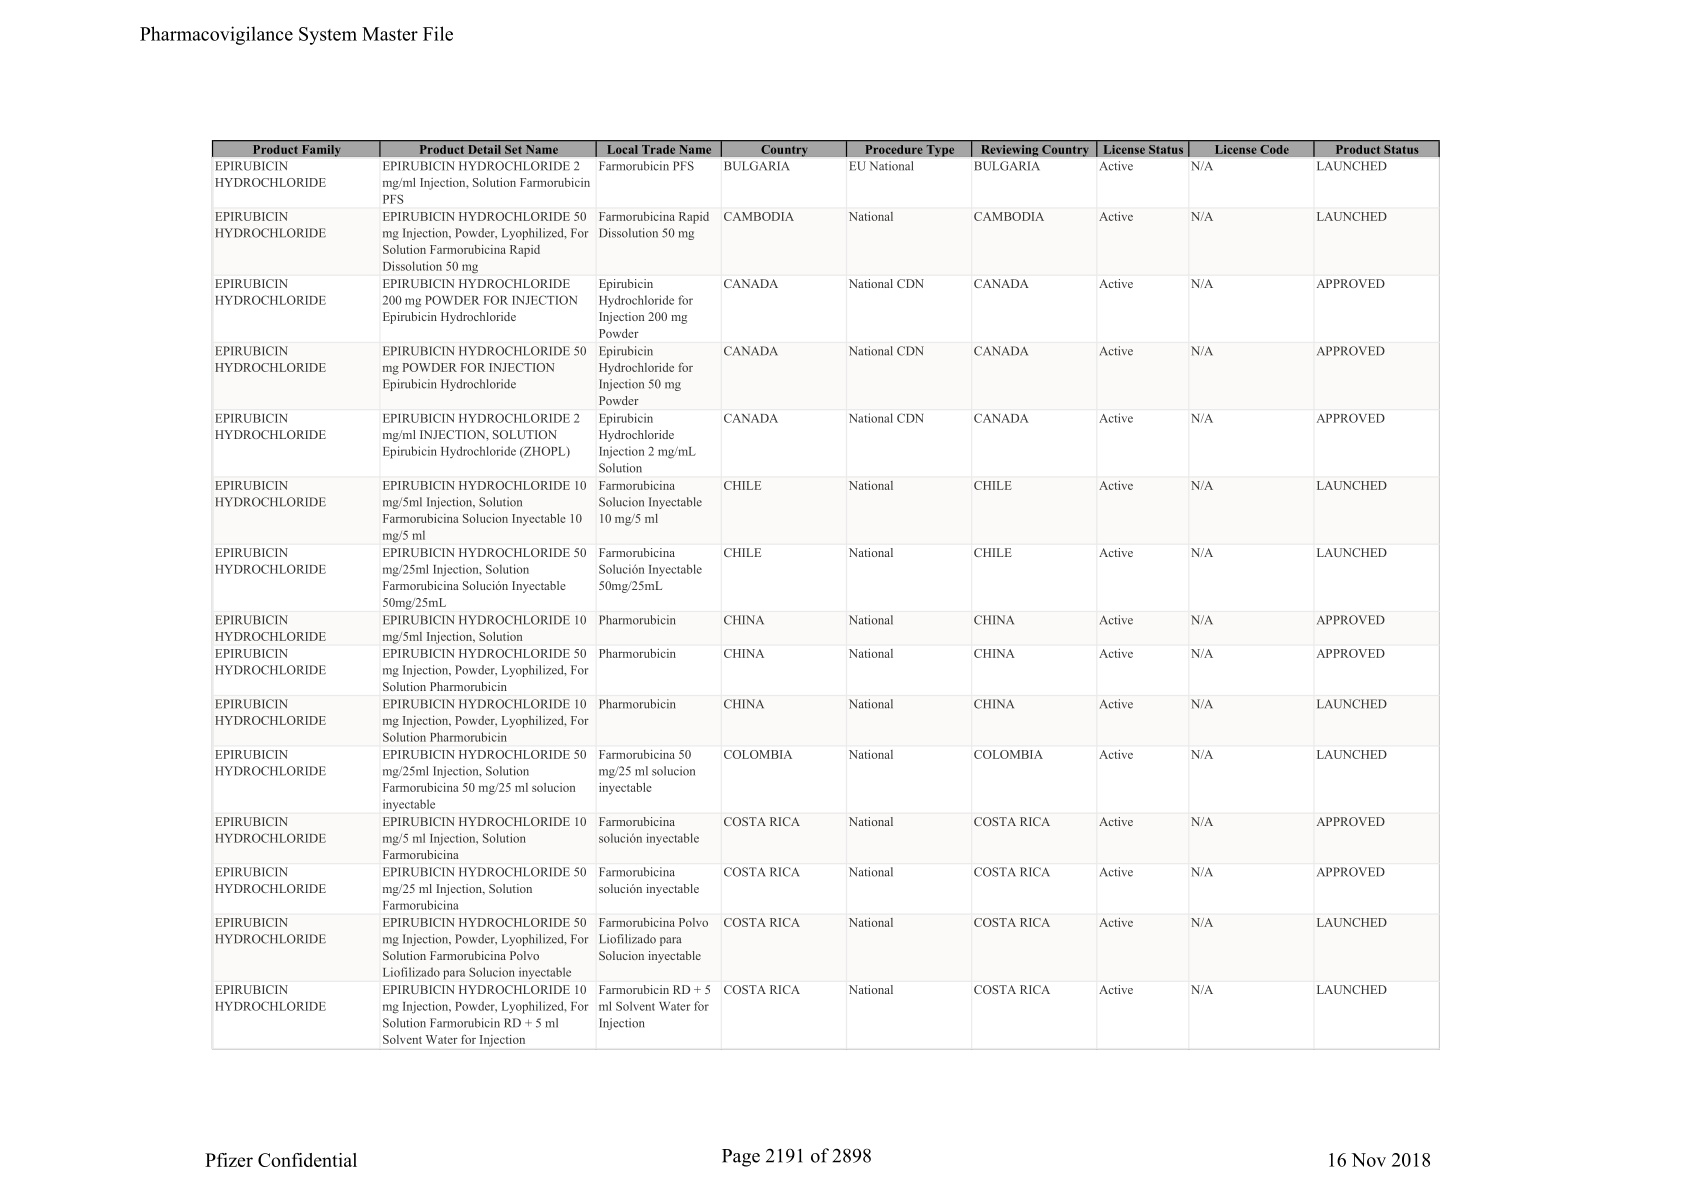full_lined: (211, 140, 1440, 1051)
